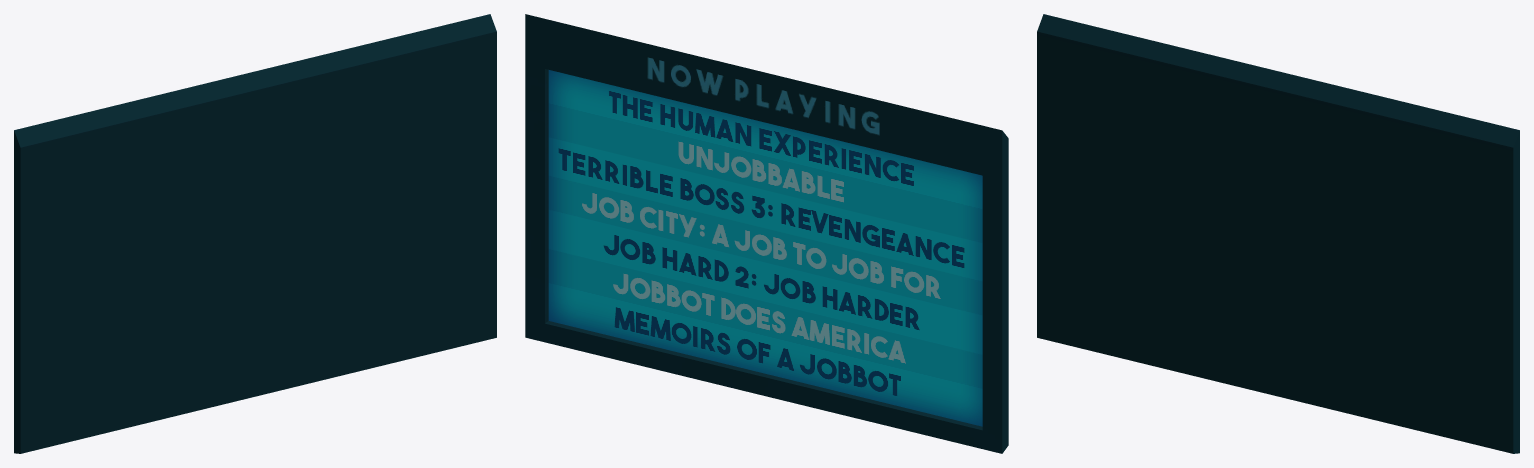
File: moviesign.glb
3 renders of one model, left to right at view 1: azimuth 30°, elevation 25°; view 2: azimuth 150°, elevation 25°; view 3: azimuth 330°, elevation 25°, orthographic.
Size of the model in its own units: 57.4 by 37.2 by 1.35.
Materials: 1 (1 with a texture image).
